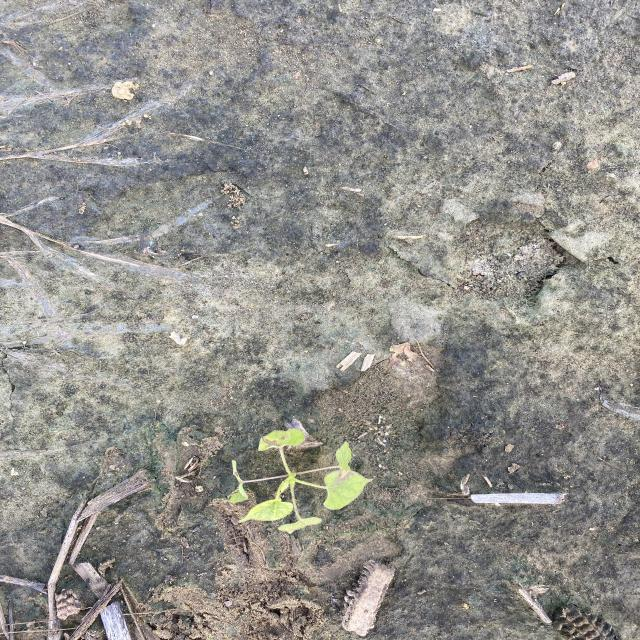MorningGlory: (227, 427, 376, 536)
